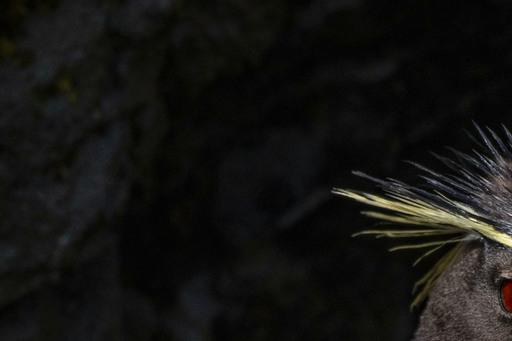Southern Rockhopper Penguin: (220, 62, 512, 341)
